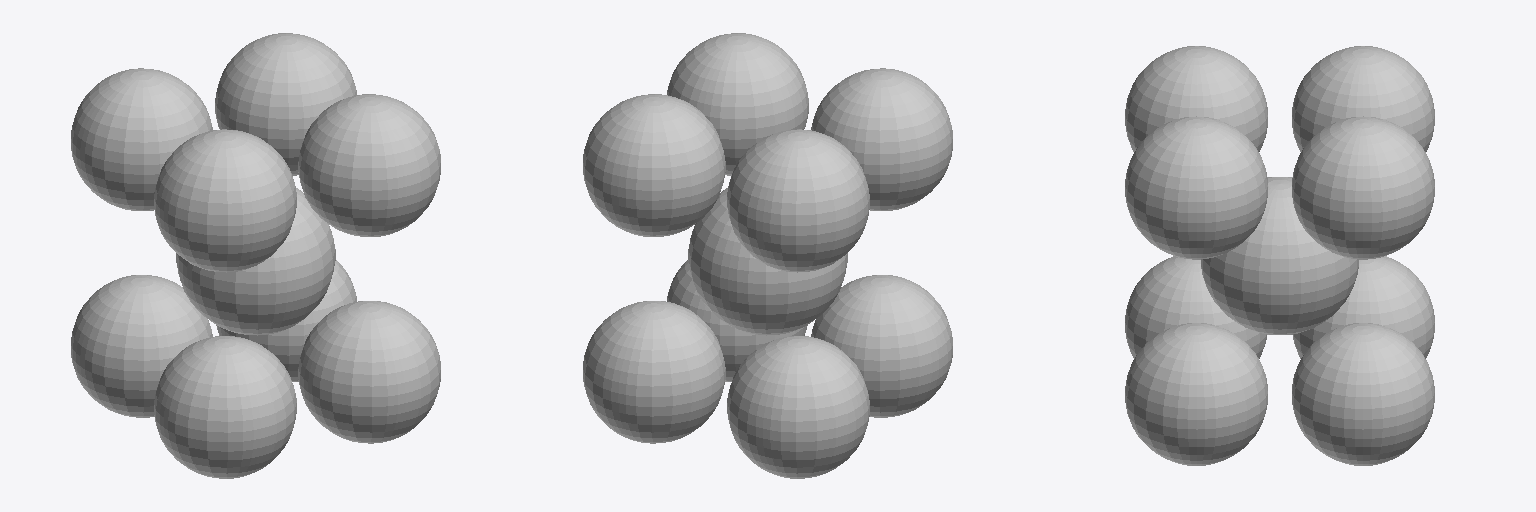
Rendered from FePt.obj.
3 views of the same model, side by side, from view 1: azimuth 30°, elevation 25°; view 2: azimuth 150°, elevation 25°; view 3: azimuth 270°, elevation 25° (orthographic).
Parts seen in each view (by area): view 1: Iron_ball_SurfSphere.003, Iron_ball_SurfSphere.006, Iron_ball_SurfSphere, Iron_ball_SurfSphere.001, Iron_ball_SurfSphere.005, Iron_ball_SurfSphere.004, Iron_ball_SurfSphere.007, Platinum_ball_SurfSphere.001, Iron_ball_SurfSphere.002; view 2: Iron_ball_SurfSphere.007, Iron_ball_SurfSphere.005, Iron_ball_SurfSphere.004, Iron_ball_SurfSphere.002, Iron_ball_SurfSphere.006, Iron_ball_SurfSphere, Iron_ball_SurfSphere.003, Platinum_ball_SurfSphere.001, Iron_ball_SurfSphere.001; view 3: Iron_ball_SurfSphere.001, Iron_ball_SurfSphere.002, Iron_ball_SurfSphere.003, Iron_ball_SurfSphere.007, Platinum_ball_SurfSphere.001, Iron_ball_SurfSphere.005, Iron_ball_SurfSphere.006, Iron_ball_SurfSphere, Iron_ball_SurfSphere.004.
Boxes of the visible parts, x1=… form: Iron_ball_SurfSphere.003: x1=298, y1=94, x2=440, y2=236; Iron_ball_SurfSphere.006: x1=154, y1=129, x2=296, y2=272; Iron_ball_SurfSphere: x1=154, y1=336, x2=296, y2=478; Iron_ball_SurfSphere.001: x1=298, y1=301, x2=440, y2=443; Iron_ball_SurfSphere.005: x1=71, y1=68, x2=212, y2=210; Iron_ball_SurfSphere.004: x1=71, y1=275, x2=212, y2=417; Iron_ball_SurfSphere.007: x1=215, y1=33, x2=356, y2=175; Platinum_ball_SurfSphere.001: x1=176, y1=188, x2=335, y2=335; Iron_ball_SurfSphere.002: x1=216, y1=260, x2=356, y2=381; Iron_ball_SurfSphere.007: x1=583, y1=94, x2=725, y2=236; Iron_ball_SurfSphere.005: x1=727, y1=129, x2=869, y2=272; Iron_ball_SurfSphere.004: x1=727, y1=336, x2=869, y2=478; Iron_ball_SurfSphere.002: x1=583, y1=301, x2=725, y2=443; Iron_ball_SurfSphere.006: x1=811, y1=68, x2=952, y2=210; Iron_ball_SurfSphere: x1=811, y1=275, x2=952, y2=417; Iron_ball_SurfSphere.003: x1=667, y1=33, x2=808, y2=175; Platinum_ball_SurfSphere.001: x1=688, y1=188, x2=847, y2=335; Iron_ball_SurfSphere.001: x1=667, y1=260, x2=807, y2=381; Iron_ball_SurfSphere.001: x1=1125, y1=323, x2=1267, y2=465; Iron_ball_SurfSphere.002: x1=1292, y1=323, x2=1434, y2=465; Iron_ball_SurfSphere.003: x1=1125, y1=116, x2=1267, y2=259; Iron_ball_SurfSphere.007: x1=1292, y1=116, x2=1434, y2=259; Platinum_ball_SurfSphere.001: x1=1201, y1=177, x2=1358, y2=334; Iron_ball_SurfSphere.005: x1=1292, y1=46, x2=1434, y2=151; Iron_ball_SurfSphere.006: x1=1125, y1=46, x2=1267, y2=151; Iron_ball_SurfSphere: x1=1125, y1=256, x2=1266, y2=358; Iron_ball_SurfSphere.004: x1=1293, y1=256, x2=1434, y2=358.
Bounding box in the file's own units: 143 × 172 × 143.